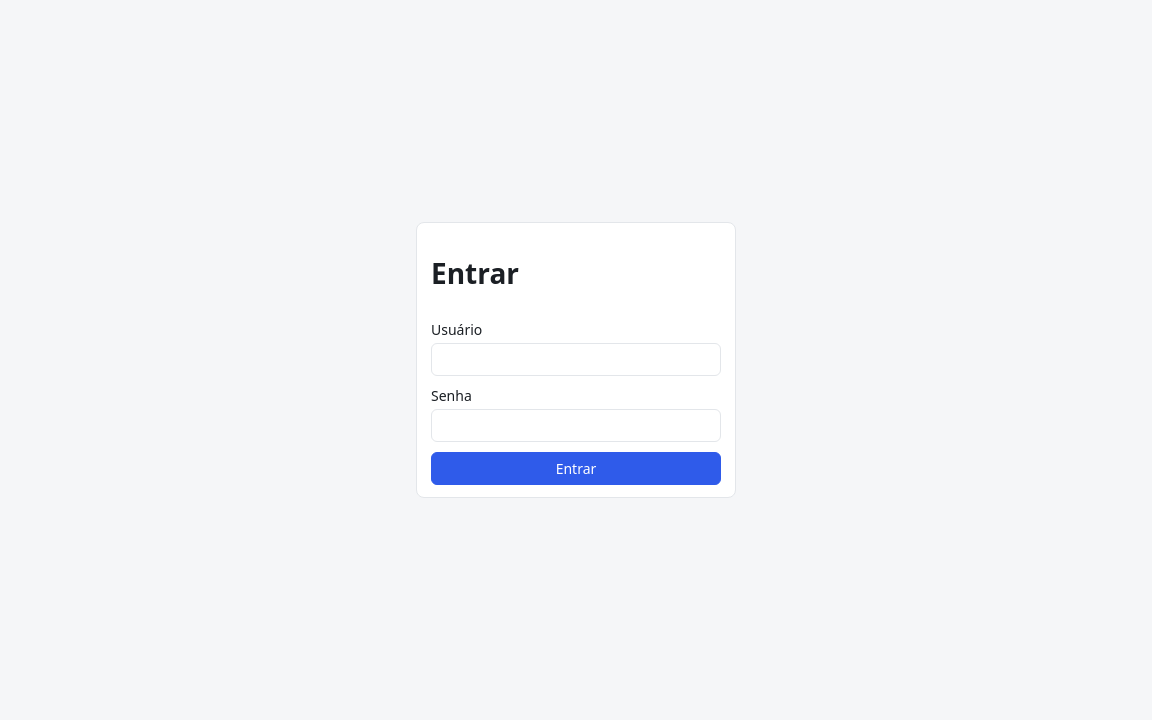
login envia usuario e senha e entra no app
The image size is (1152, 720).
Type "admin" into the field labelled "Usuário" at [576, 360], box [431,343,721,376]
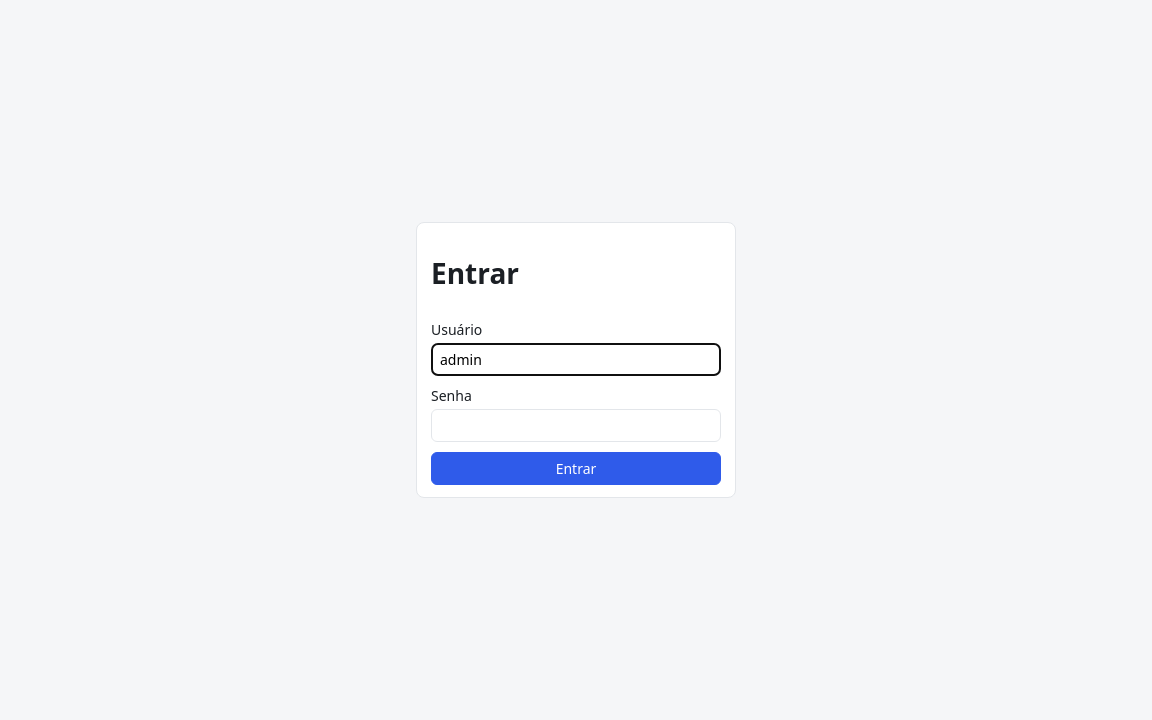
Type "segredo" into the password field labelled "Senha" at [576, 426], box [431,409,721,442]
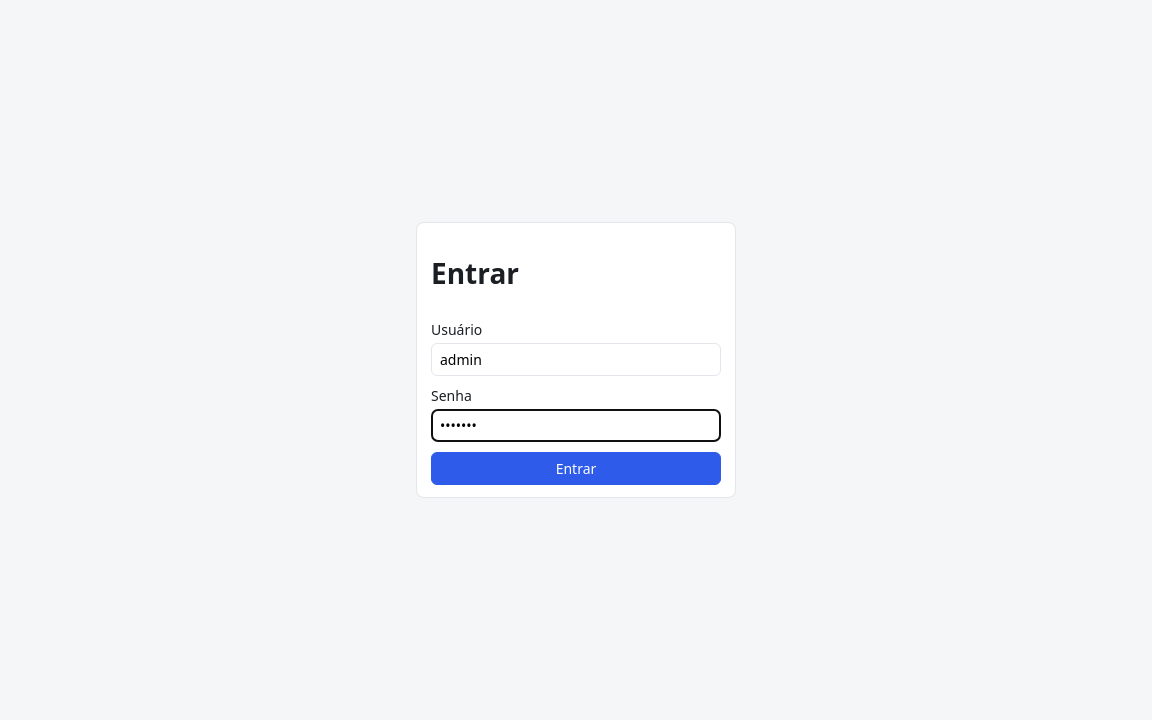
Click the button "Entrar" at [576, 469], box [431,452,721,485]
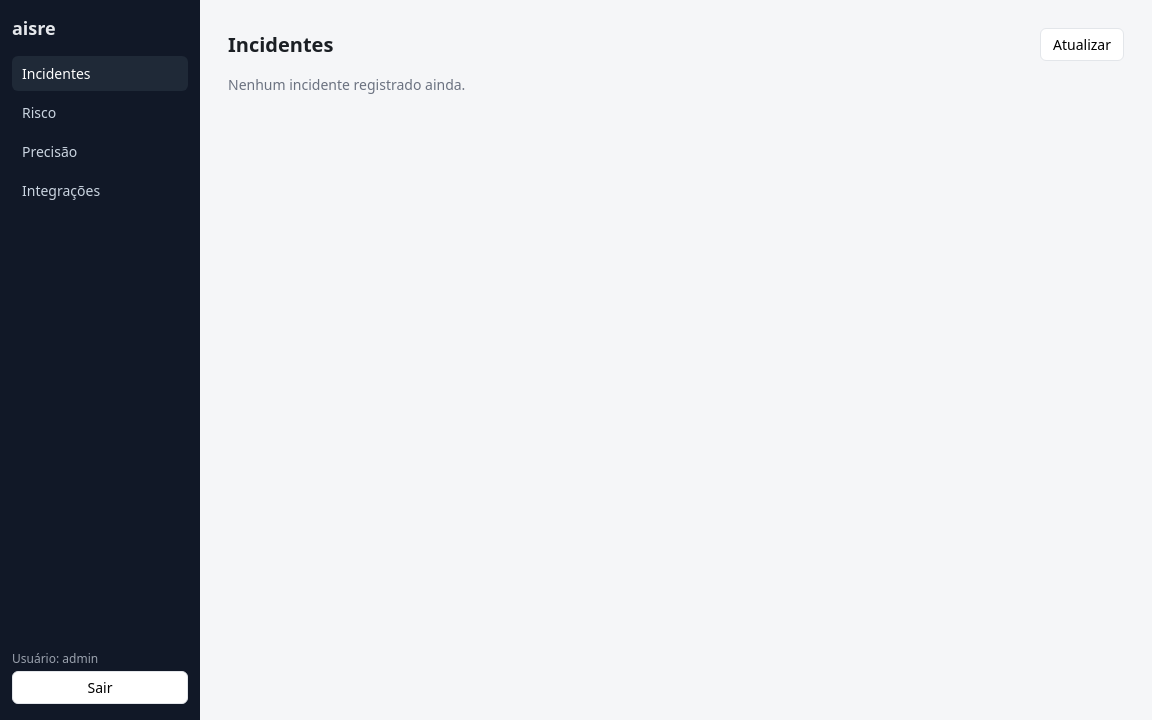
Result: the text "Nenhum incidente registrado ainda." is shown at [228,75,465,94]
